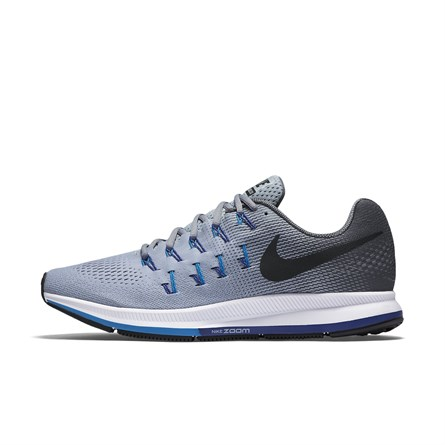nike: (257, 230, 388, 285)
